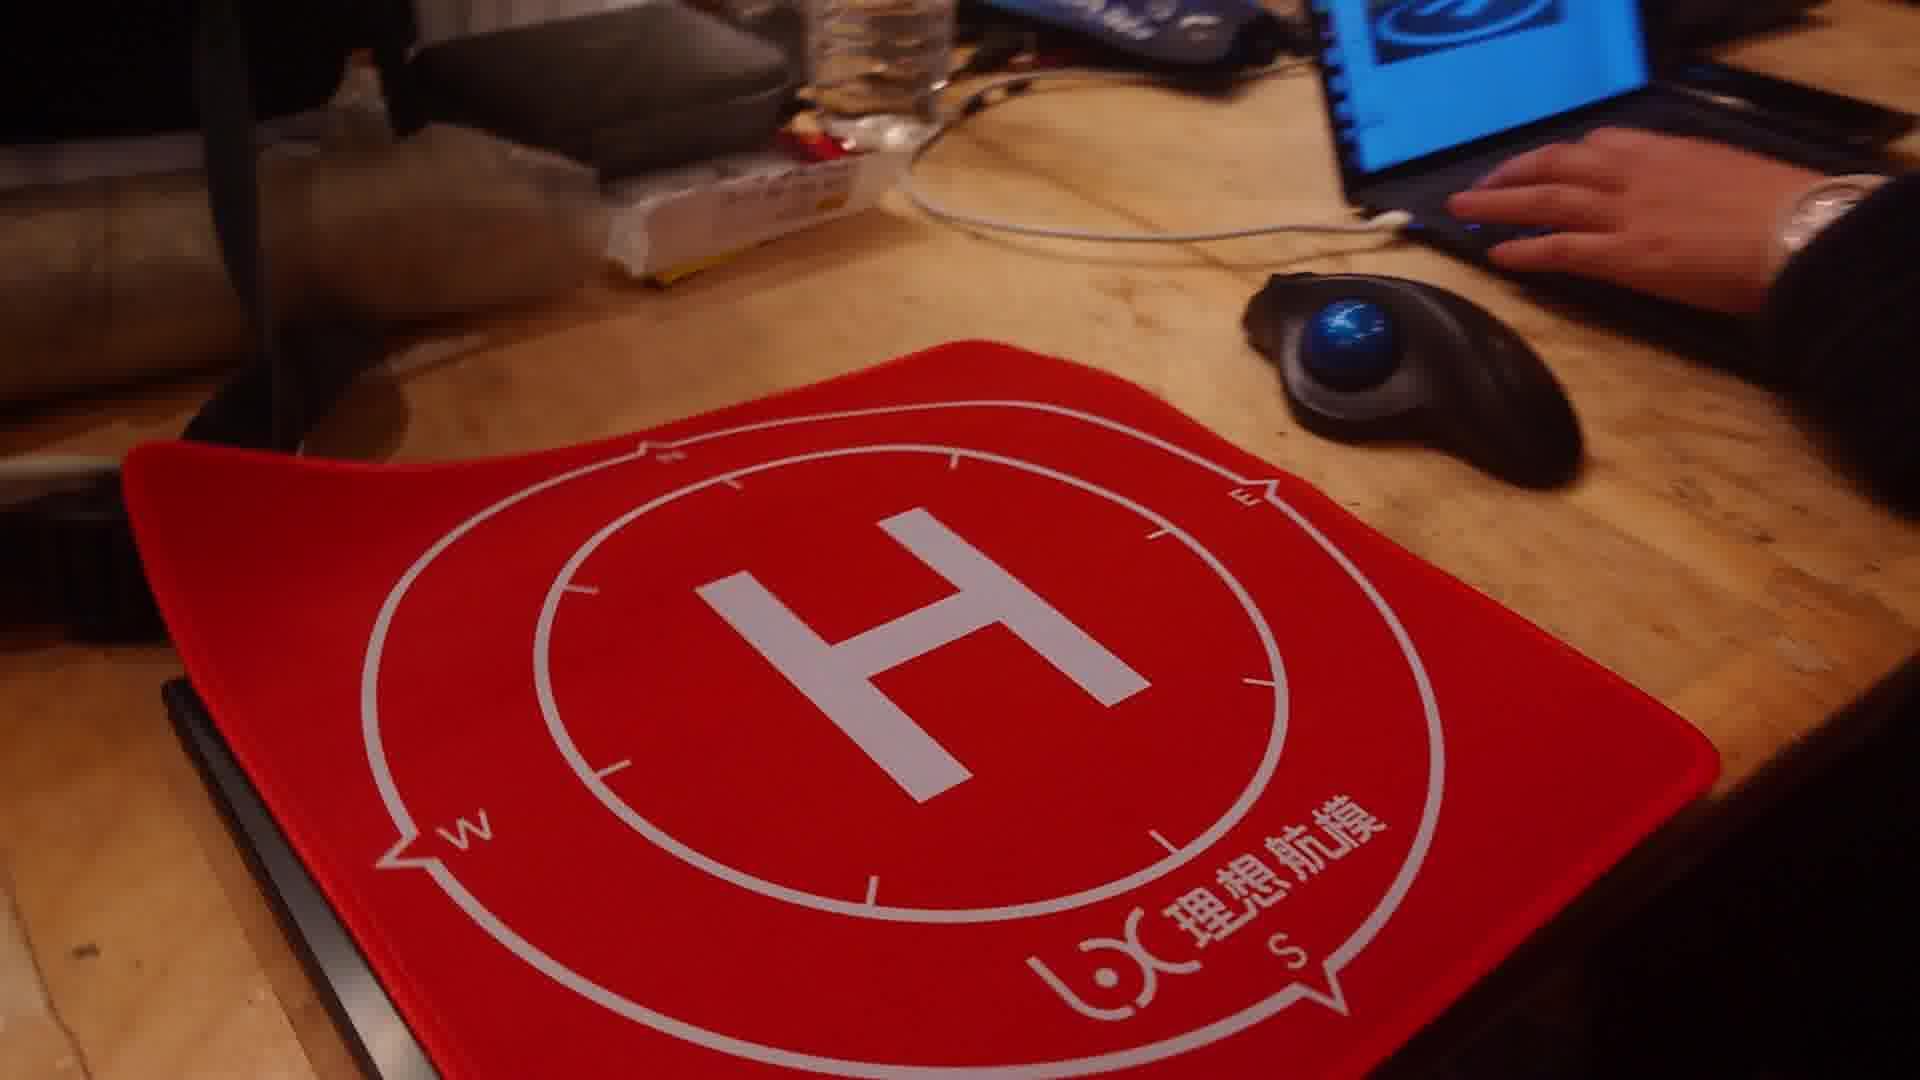H: (692, 504, 1156, 806)
